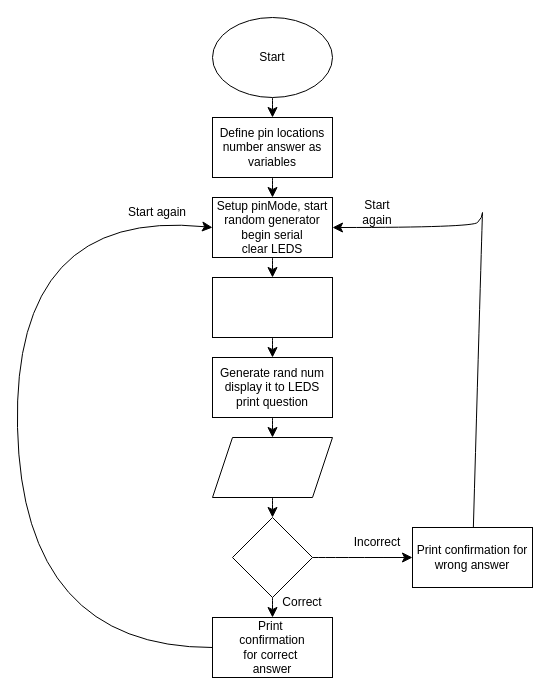
This 551x695 diagram has some shape labels left out. Here are the shapes that lost their labels. From the top down, the box of each, then its label:
(212, 276, 332, 338): Display LEDs
(212, 436, 332, 498): Get input from question
(232, 516, 312, 598): check answer
